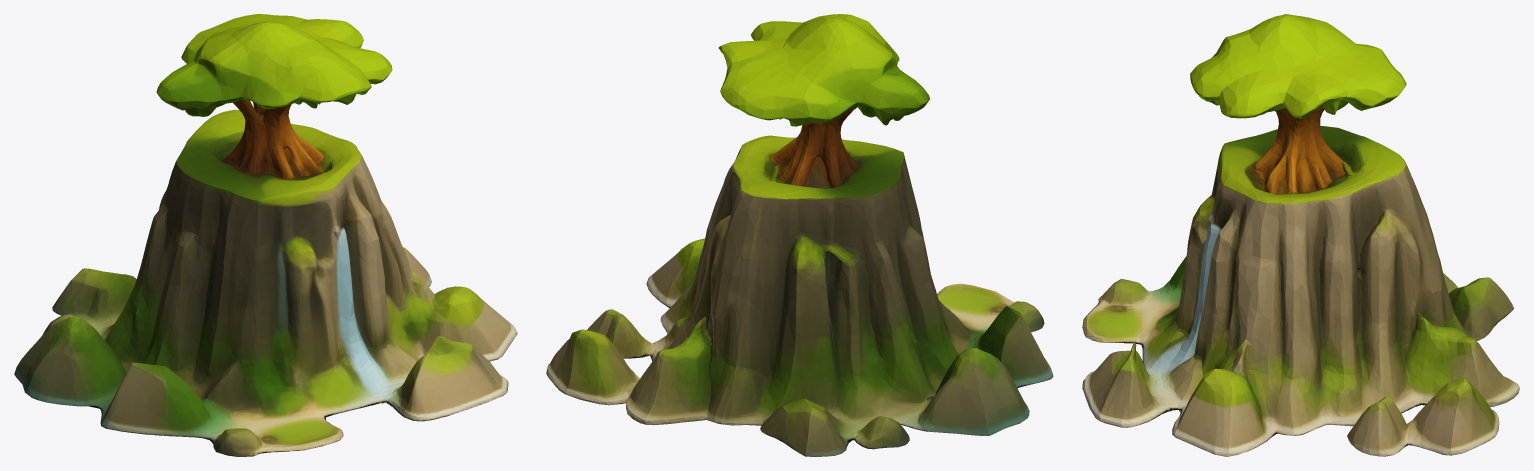
The model's file is island-bigleaf-bluff.glb.
The picture shows the model from 3 angles, left to right: view 1: azimuth 30°, elevation 25°; view 2: azimuth 150°, elevation 25°; view 3: azimuth 270°, elevation 25°; orthographic projection.
Visible parts, largest first — view 1: world; view 2: world; view 3: world.
Part boxes in pixels (x1=…): world: x1=14, y1=14, x2=517, y2=456; world: x1=546, y1=14, x2=1053, y2=456; world: x1=1082, y1=14, x2=1519, y2=456.
Bounding box in the file's own units: 0.9997 × 0.7671 × 0.8812.
Materials: 1 (1 with a texture image).
